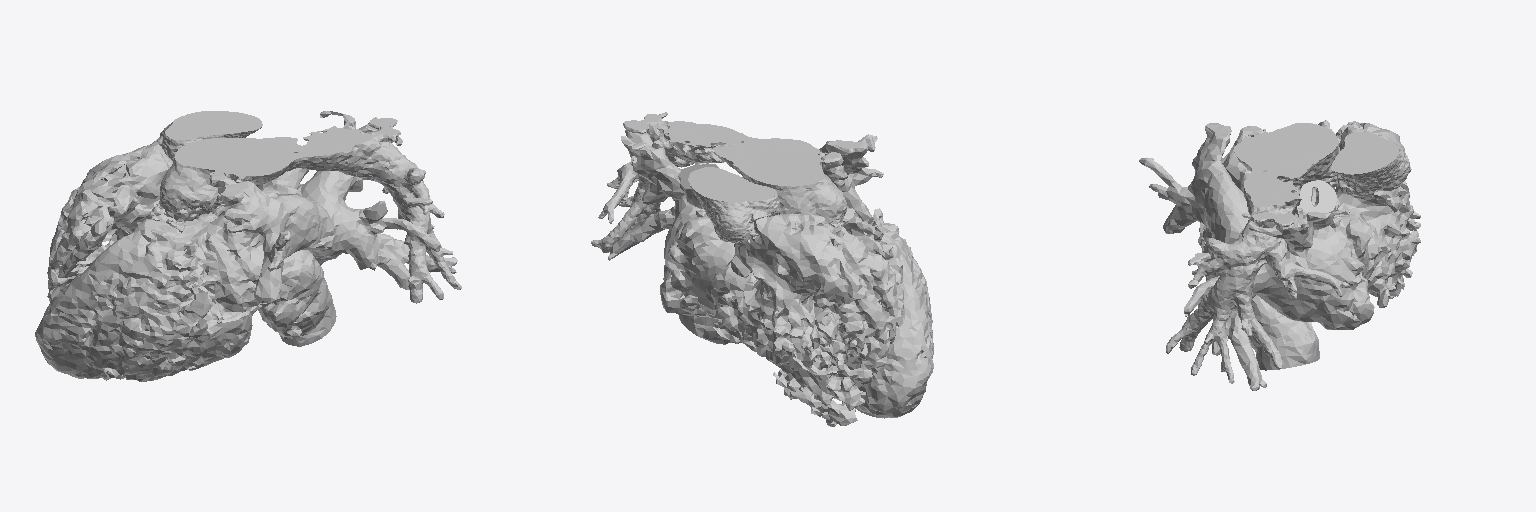
File: 2018004-01BaffleLeakRightSidelowres.obj
The picture shows the model from 3 angles: view 1: azimuth 30°, elevation 25°; view 2: azimuth 150°, elevation 25°; view 3: azimuth 270°, elevation 25°; orthographic projection.
Visible parts, largest first — view 1: [number redacted]_Baffle_Leak_Left_Side, [number redacted]_Baffle_Leak_Right_Side, [number redacted]_Baffle_Leak_Pulmonic_Artery, [number redacted]_Baffle_Leak_Aorta; view 2: [number redacted]_Baffle_Leak_Right_Side, [number redacted]_Baffle_Leak_Pulmonic_Artery, [number redacted]_Baffle_Leak_Left_Side, [number redacted]_Baffle_Leak_Aorta; view 3: [number redacted]_Baffle_Leak_Right_Side, [number redacted]_Baffle_Leak_Pulmonic_Artery, [number redacted]_Baffle_Leak_Left_Side, [number redacted]_Baffle_Leak_Aorta.
Part boxes in pixels (x1,y1,x2,y2): [number redacted]_Baffle_Leak_Left_Side: (35, 168, 336, 381); [number redacted]_Baffle_Leak_Right_Side: (47, 111, 457, 303); [number redacted]_Baffle_Leak_Pulmonic_Artery: (150, 118, 461, 303); [number redacted]_Baffle_Leak_Aorta: (157, 111, 262, 160); [number redacted]_Baffle_Leak_Right_Side: (591, 130, 903, 426); [number redacted]_Baffle_Leak_Pulmonic_Artery: (596, 112, 857, 247); [number redacted]_Baffle_Leak_Left_Side: (678, 152, 933, 418); [number redacted]_Baffle_Leak_Aorta: (688, 167, 779, 242); [number redacted]_Baffle_Leak_Right_Side: (1139, 120, 1420, 390); [number redacted]_Baffle_Leak_Pulmonic_Artery: (1166, 123, 1350, 383); [number redacted]_Baffle_Leak_Left_Side: (1198, 126, 1336, 370); [number redacted]_Baffle_Leak_Aorta: (1331, 132, 1409, 195).
Size of the model in its own units: 215 by 112 by 140.